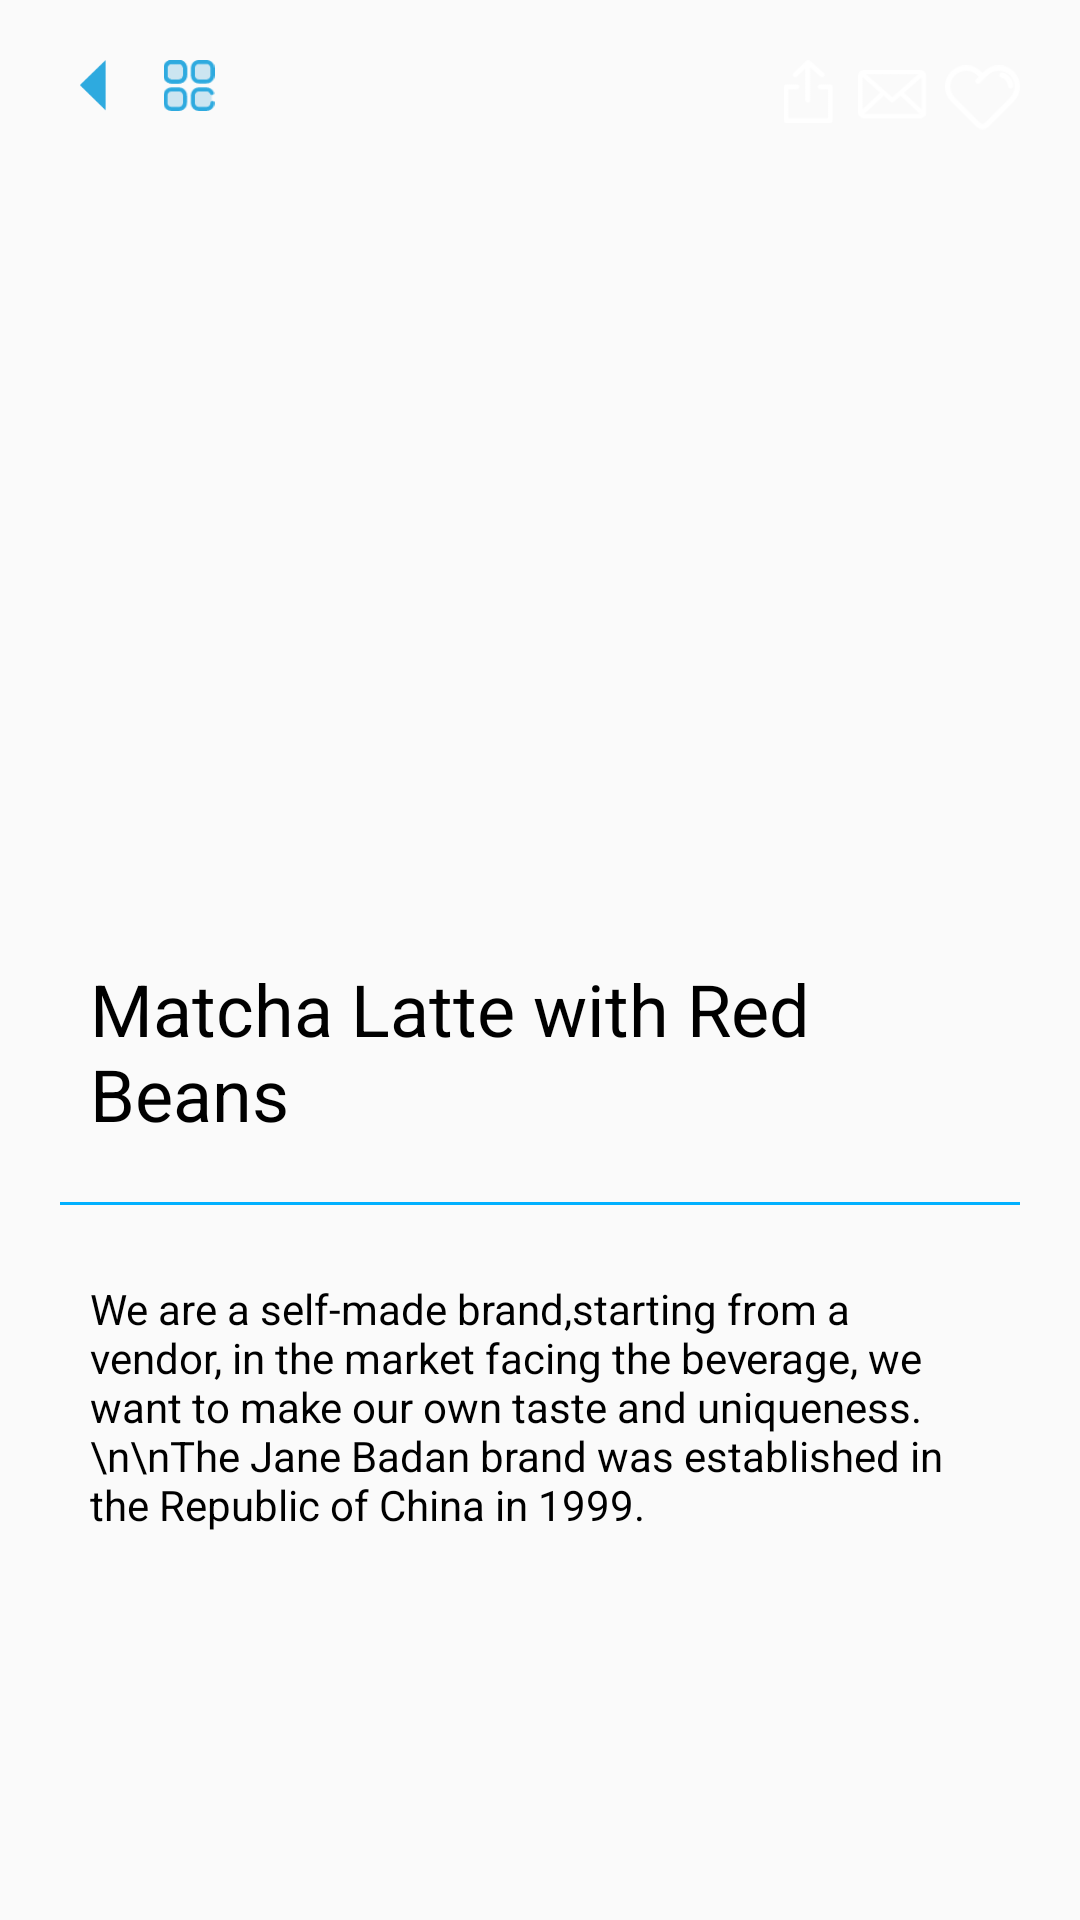

Icons on this 1080×1920 Android screen, each with the point to tap as point (x, y):
features menu: point (189, 85)
option back: point (93, 85)
